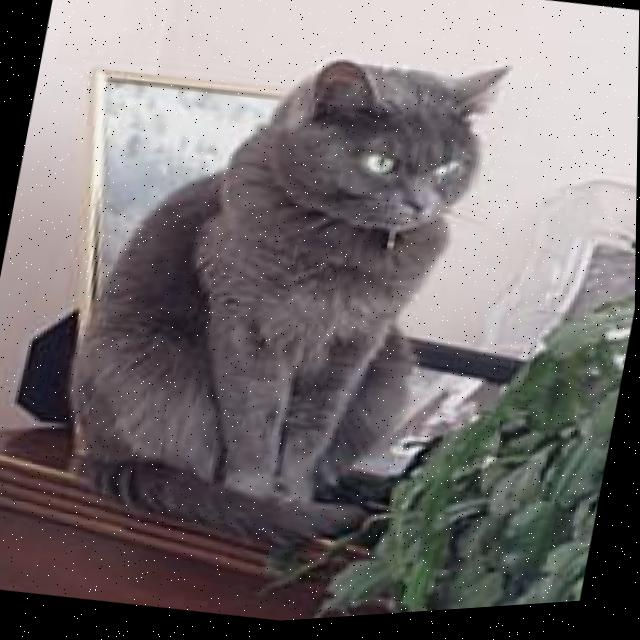Russian Blue: (38, 0, 517, 587)
